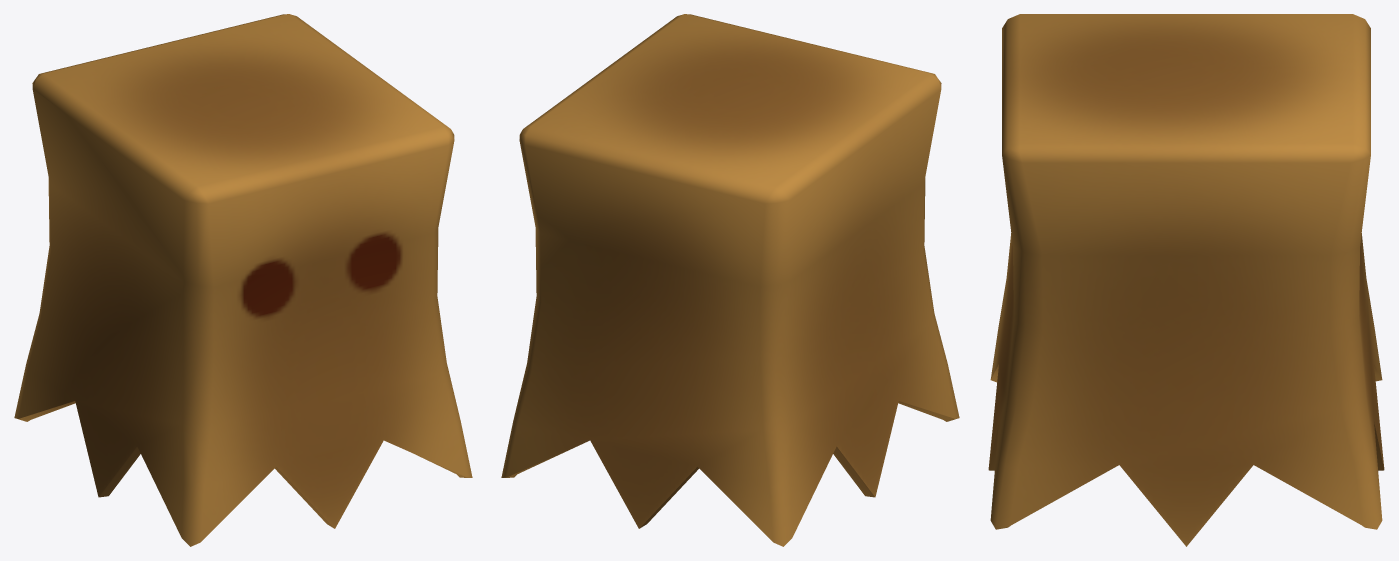
The model's file is PaperBag.glb.
3 renders of one model, left to right at view 1: azimuth 30°, elevation 25°; view 2: azimuth 150°, elevation 25°; view 3: azimuth 270°, elevation 25°, orthographic. The views are drawn at different scales.
Visible parts, largest first — view 1: m_Paperbag01; view 2: m_Paperbag01; view 3: m_Paperbag01.
Boxes of the visible parts, left/top/right/bottom form: m_Paperbag01: left=14, top=14, right=472, bottom=546; m_Paperbag01: left=501, top=14, right=959, bottom=546; m_Paperbag01: left=988, top=14, right=1384, bottom=546.
Bounding box in the file's own units: 0.8272 × 0.9899 × 0.9042.
Materials: 1 (1 with a texture image).
